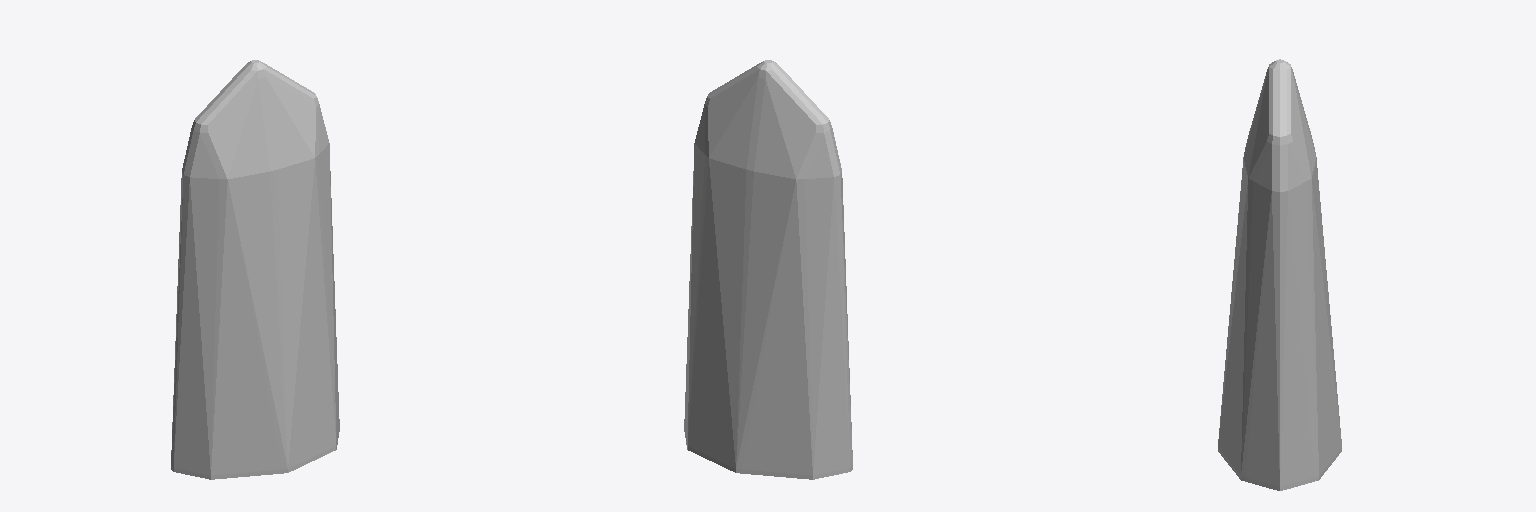
The model's file is textured_granite_king.obj.
3 views of the same model, side by side, from view 1: azimuth 30°, elevation 25°; view 2: azimuth 150°, elevation 25°; view 3: azimuth 270°, elevation 25° (orthographic).
Parts seen in each view (by area): view 1: Poly_King; view 2: Poly_King; view 3: Poly_King.
Part boxes in pixels (bbox=[...]): Poly_King: bbox=[171, 60, 339, 479]; Poly_King: bbox=[684, 60, 852, 479]; Poly_King: bbox=[1218, 59, 1341, 490].
Bounding box in the file's own units: 41.81 × 92.85 × 26.9.